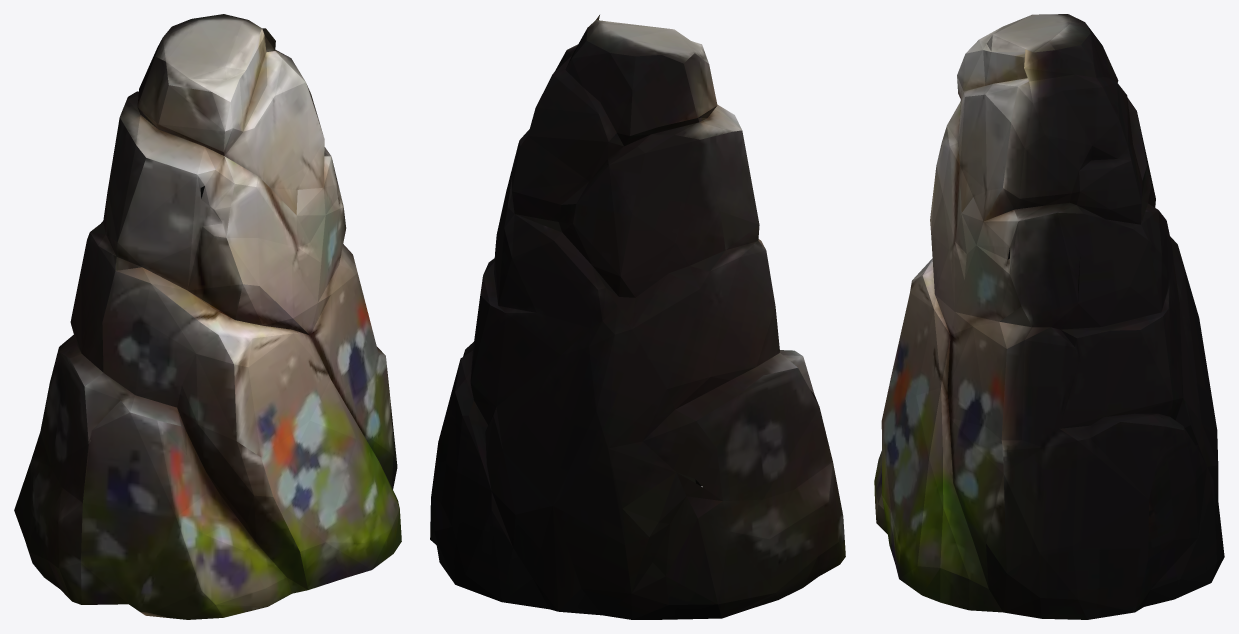
Rendered from rock-2.glb.
3 views of the same model, side by side, from view 1: azimuth 30°, elevation 25°; view 2: azimuth 150°, elevation 25°; view 3: azimuth 270°, elevation 25° (orthographic).
Visible parts, largest first — view 1: geometry_0; view 2: geometry_0; view 3: geometry_0.
Boxes of the visible parts, <box> form: geometry_0: <box>14,14,401,619</box>; geometry_0: <box>430,15,845,619</box>; geometry_0: <box>874,14,1224,619</box>.
Bounding box in the file's own units: 0.7229 × 1 × 0.621.
Materials: 1 (1 with a texture image).
